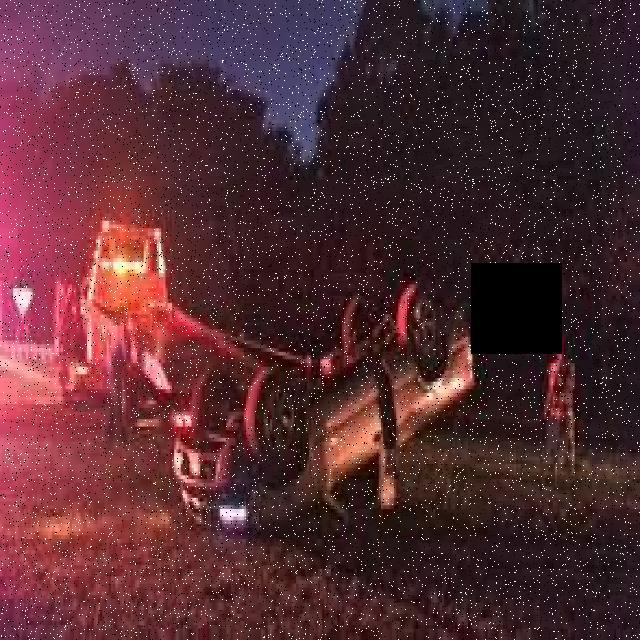severe: (172, 290, 477, 541)
